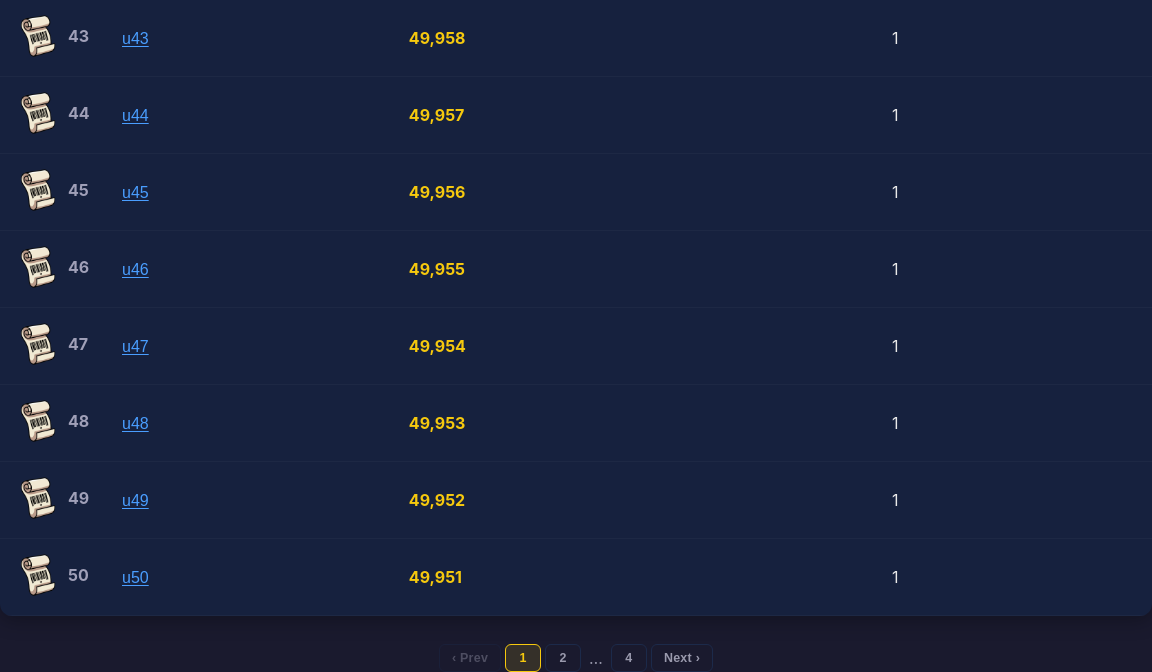
Test: LeaderboardPage › numbered pagination › clicking Next refetches the next page with offset = pageSize
(page scrolled)
Step 1. Click the button with aria-label "Next page" → (682, 658), box [651, 644, 713, 671]
(page scrolled)
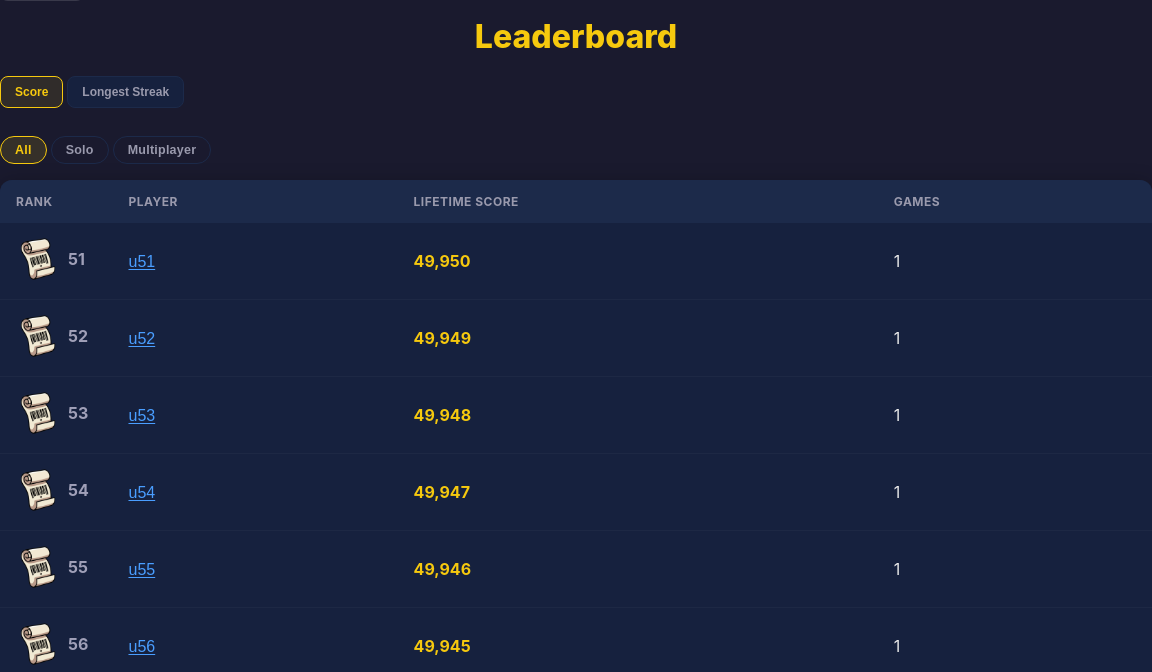
expect the text "u51" is shown: met, box [128, 253, 155, 271]
